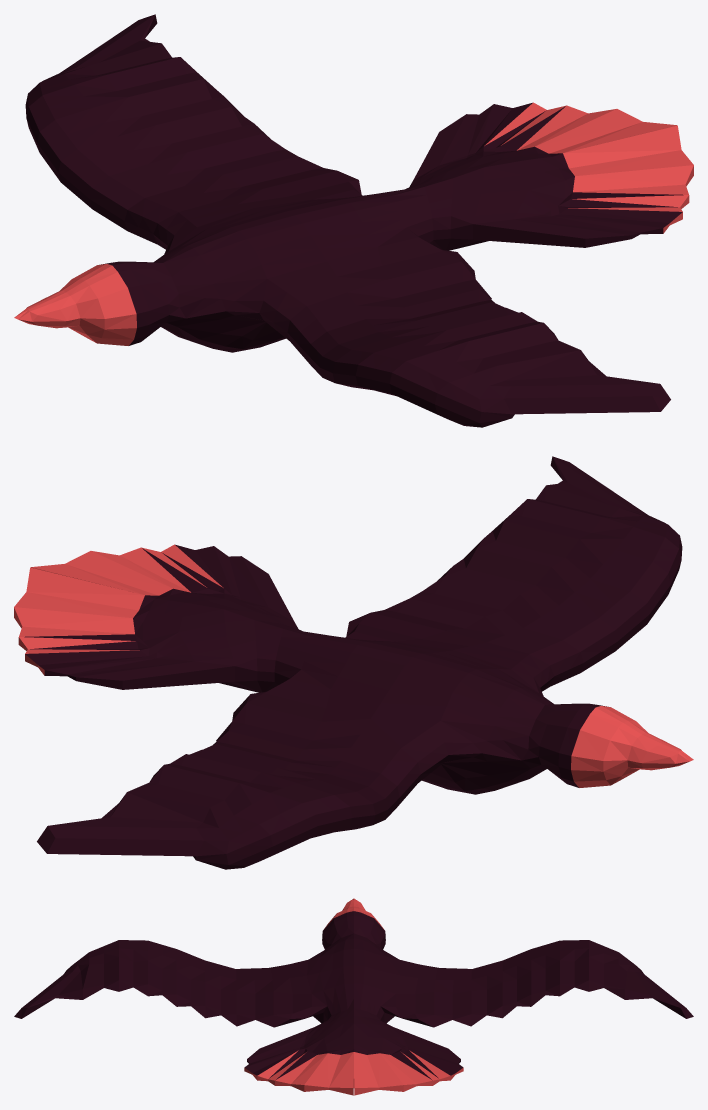
File: bird.obj
3 views of the same model, one above another, from view 1: azimuth 30°, elevation 25°; view 2: azimuth 150°, elevation 25°; view 3: azimuth 270°, elevation 25° (orthographic). The views are drawn at different scales.
Visible parts, largest first — view 1: Bird; view 2: Bird; view 3: Bird.
Part boxes in pixels (bbox=[...]): Bird: bbox=[14, 14, 693, 427]; Bird: bbox=[14, 456, 693, 869]; Bird: bbox=[14, 898, 693, 1095].
Bounding box in the file's own units: 2.68 × 0.484 × 3.68.
